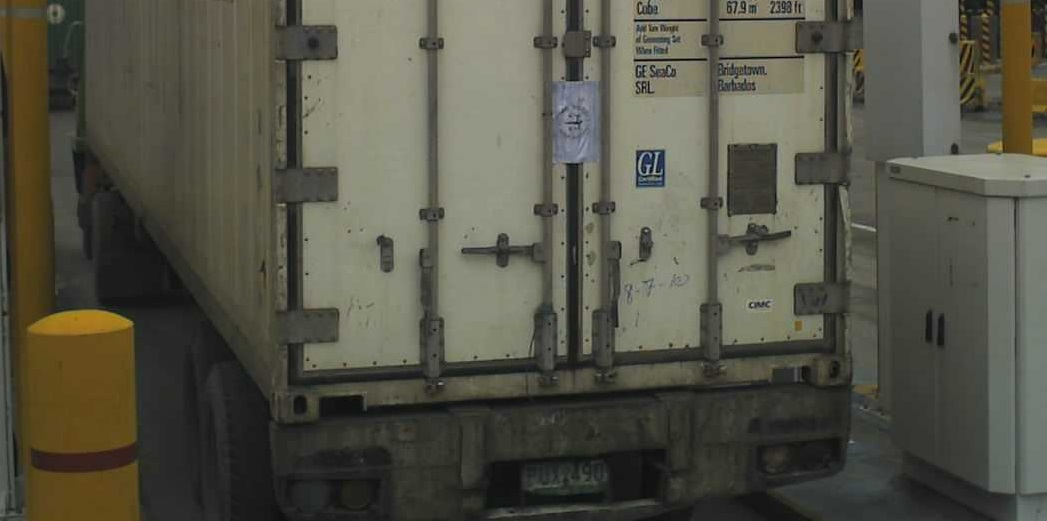container_door: (275, 3, 859, 422)
